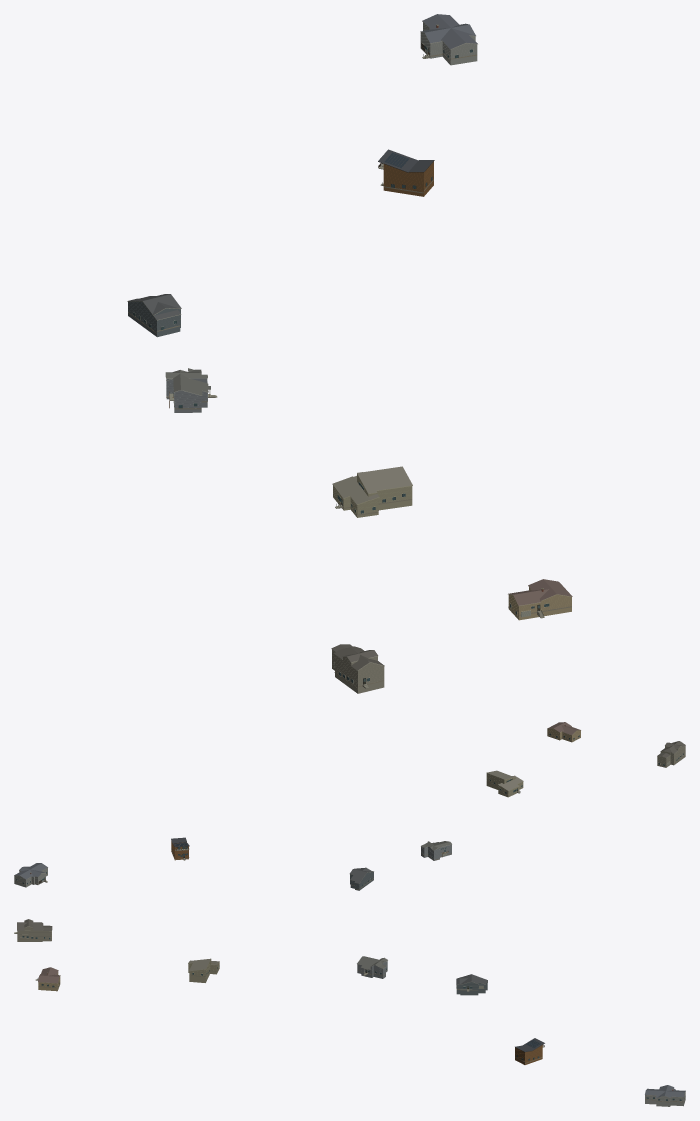
The model's file is site.glb.
3 renders of one model, top to bottom at view 1: azimuth 30°, elevation 25°; view 2: azimuth 150°, elevation 25°; view 3: azimuth 270°, elevation 25°, orthographic. The views are drawn at different scales.
Parts seen in each view (by area): view 1: roof-7bb19f64, roof-41f5448c, roof-78a95ac1, roof-57f699be, roof-72b4d323, roof-8aa49f9b, roof-e057643a; view 2: roof-7bb19f64, roof-41f5448c, roof-78a95ac1, roof-72b4d323, roof-e057643a, roof-8aa49f9b, roof-57f699be; view 3: roof-41f5448c, roof-78a95ac1, roof-7bb19f64, roof-8aa49f9b, roof-57f699be, roof-e057643a, roof-72b4d323.
Part boxes in pixels (bbox=[...]): roof-7bb19f64: bbox=[332, 466, 412, 517]; roof-41f5448c: bbox=[420, 14, 477, 65]; roof-78a95ac1: bbox=[331, 644, 384, 693]; roof-57f699be: bbox=[378, 149, 434, 196]; roof-72b4d323: bbox=[508, 579, 572, 620]; roof-8aa49f9b: bbox=[127, 294, 181, 337]; roof-e057643a: bbox=[165, 368, 215, 412]; roof-7bb19f64: bbox=[486, 770, 523, 797]; roof-41f5448c: bbox=[14, 863, 47, 887]; roof-78a95ac1: bbox=[657, 741, 685, 767]; roof-72b4d323: bbox=[547, 722, 580, 742]; roof-e057643a: bbox=[421, 841, 451, 860]; roof-8aa49f9b: bbox=[349, 867, 373, 890]; roof-57f699be: bbox=[171, 837, 189, 860]; roof-41f5448c: bbox=[645, 1085, 685, 1106]; roof-78a95ac1: bbox=[14, 919, 52, 941]; roof-7bb19f64: bbox=[188, 958, 219, 982]; roof-8aa49f9b: bbox=[456, 974, 487, 995]; roof-57f699be: bbox=[515, 1038, 544, 1064]; roof-e057643a: bbox=[357, 956, 387, 978]; roof-72b4d323: bbox=[36, 967, 60, 991].
Bounding box in the file's own units: 281 × 19.99 × 425.
